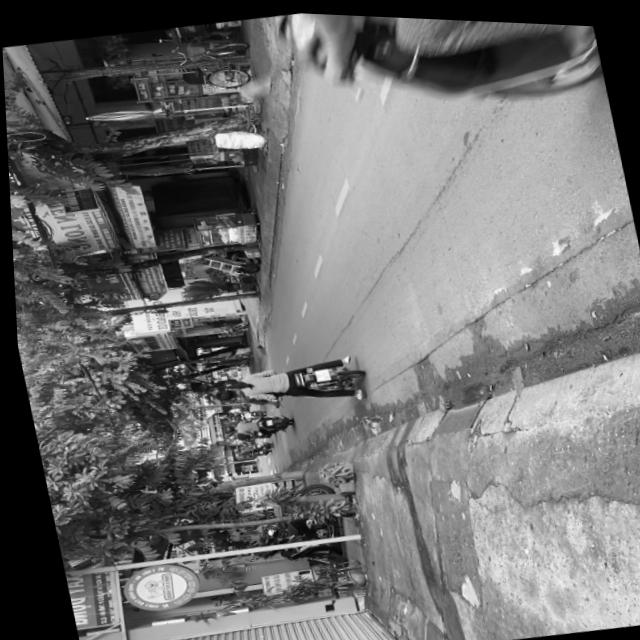licenseplate: (203, 344, 365, 416), (216, 374, 242, 389)
motorcyclist: (209, 383, 238, 400)
nohelmet: (311, 364, 327, 379)
